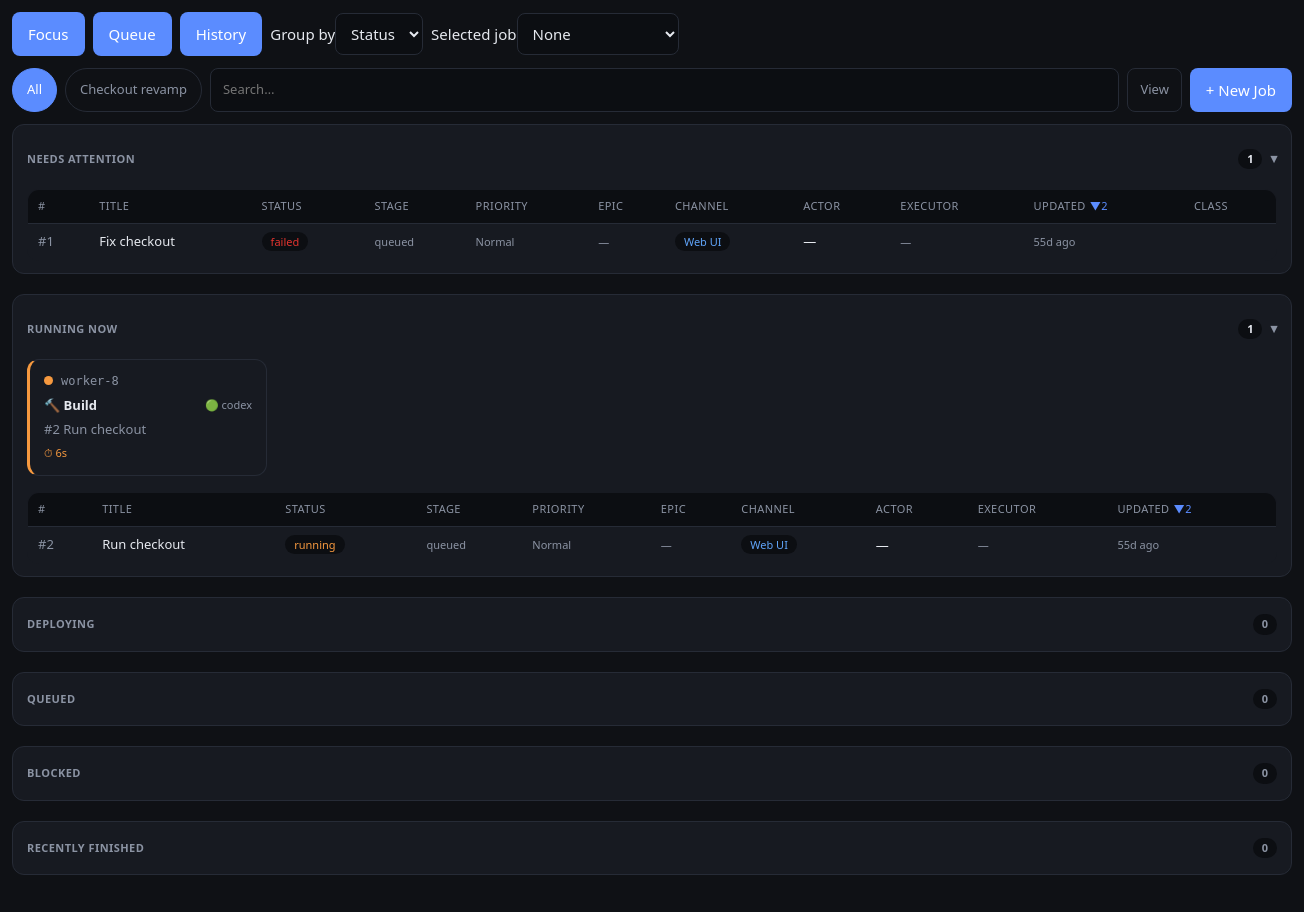
Test: WorkLanes › collapses populated focus lanes independently with worker content owned by running
This screenshot has width=1304, height=912.
Expected: the text "worker-8" is shown, [61,374,119,388]
Step 1. Click the button "Needs Attention 1 ▾" → (81, 158), box [27,137,1277,181]
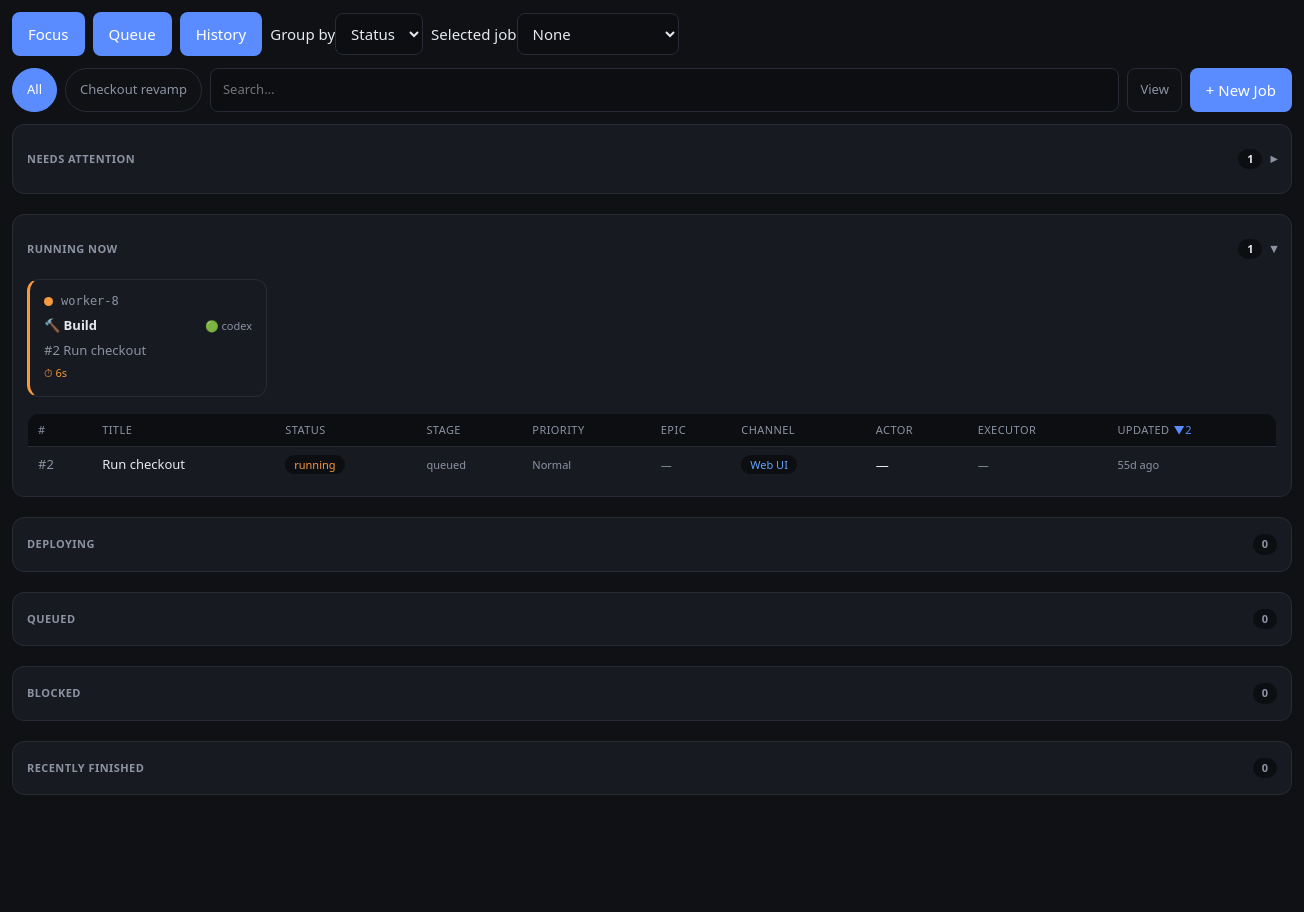
Expected: the text "Run checkout" is shown, [102,455,185,473]
Expected: the text "Fix checkout" is gone
Step 2. Click the button "Running Now 1 ▾" → (72, 248), box [27,227,1277,271]
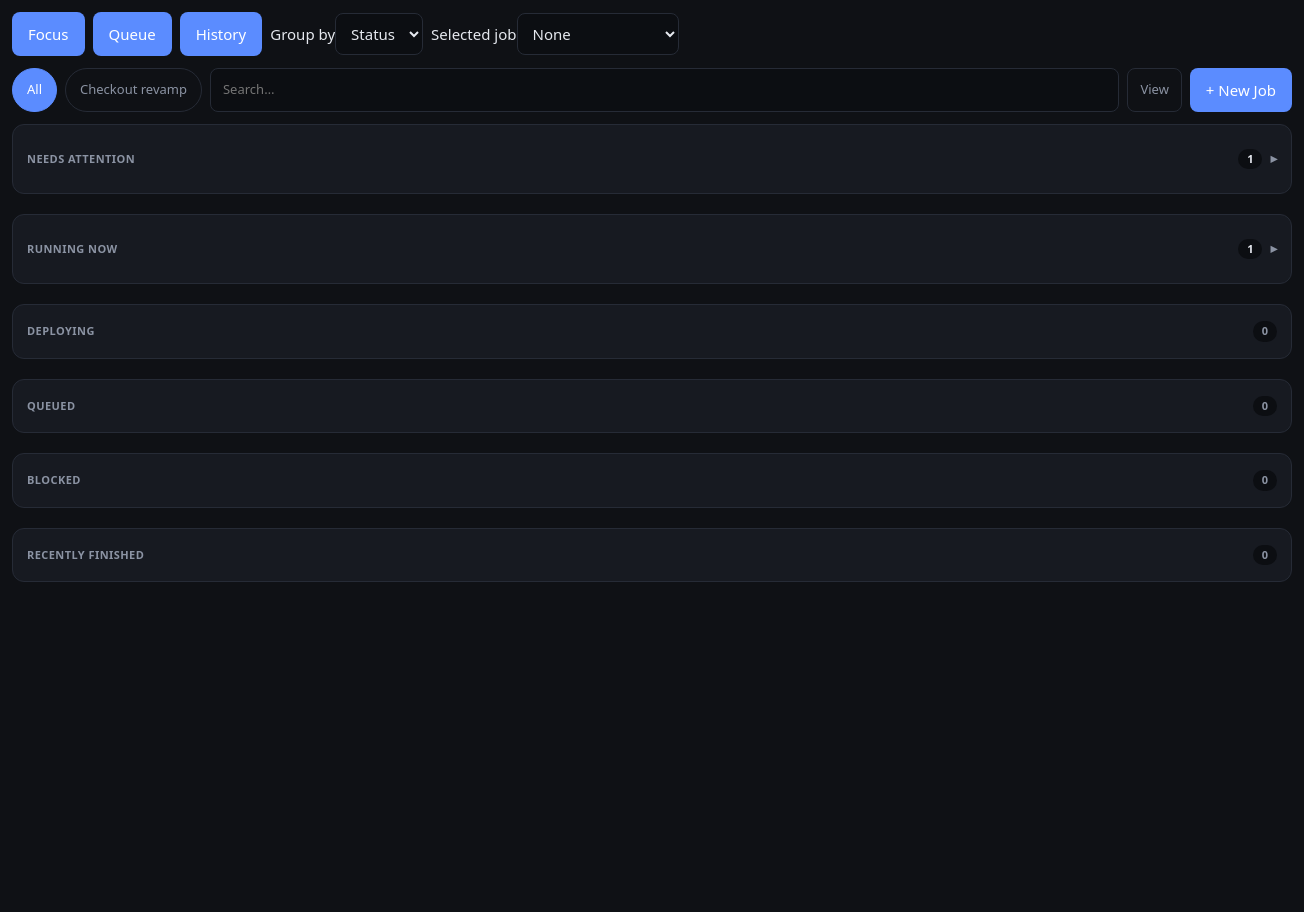
Expected: the text "worker-8" is gone
Step 3. Click the button "Running Now 1 ▸" → (72, 248), box [27,227,1277,271]
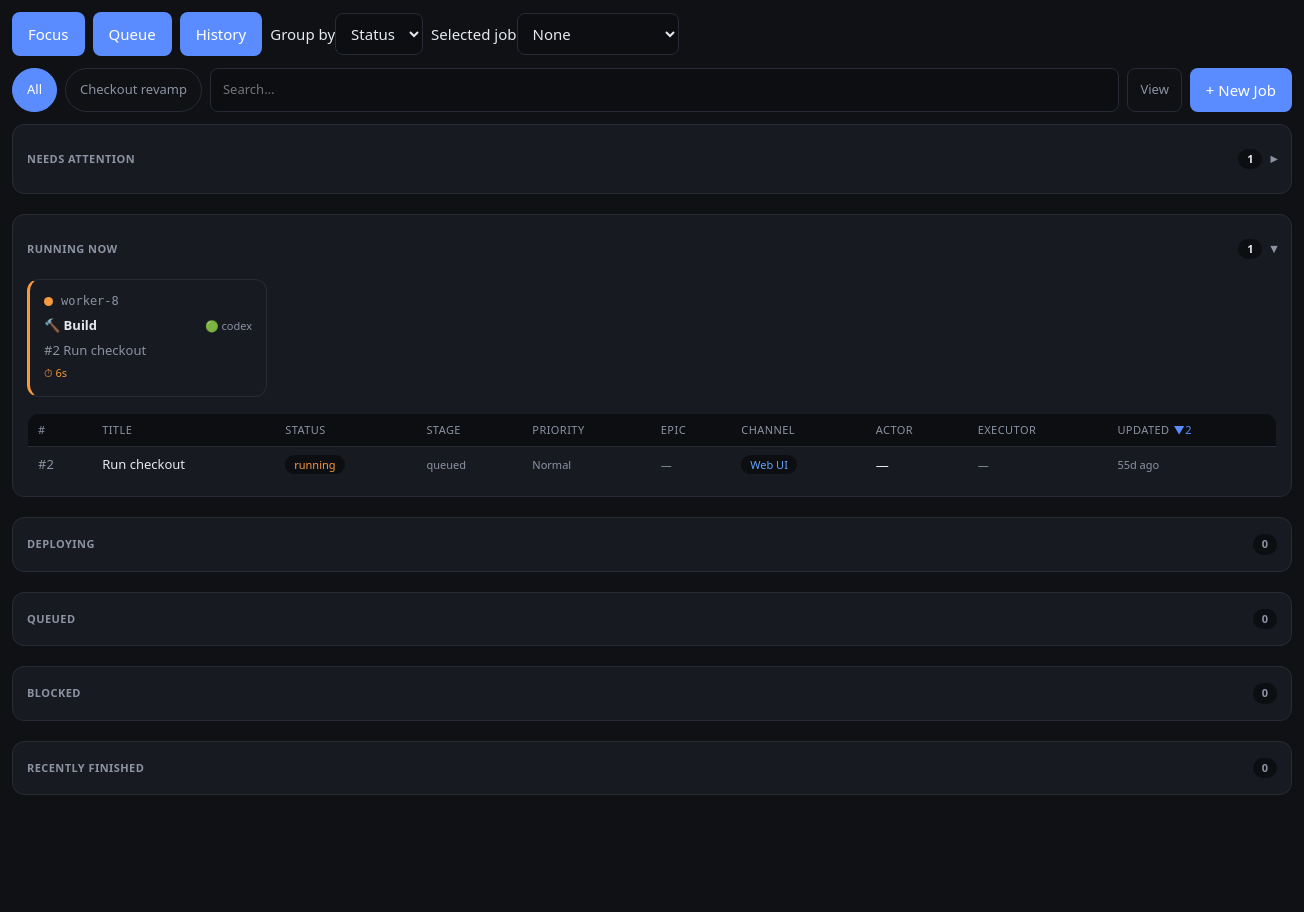
Expected: the text "worker-8" is shown, [61,294,119,308]
Step 4. Click the button "Needs Attention 1 ▸" → (81, 158), box [27,137,1277,181]
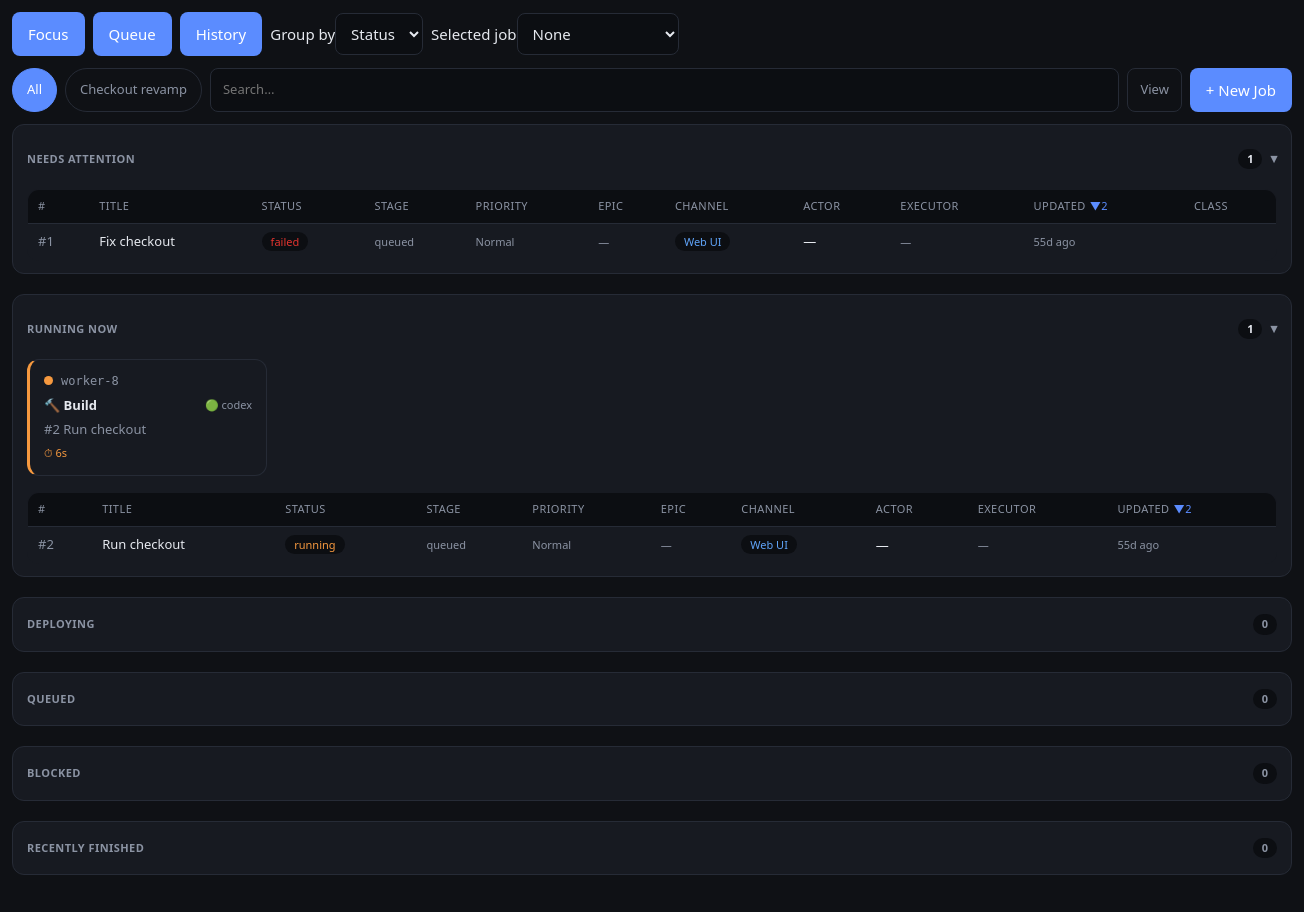
Expected: the text "Fix checkout" is shown, [99,232,175,250]
